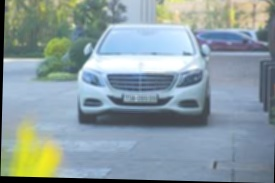Bien-so: (119, 95, 156, 107)
